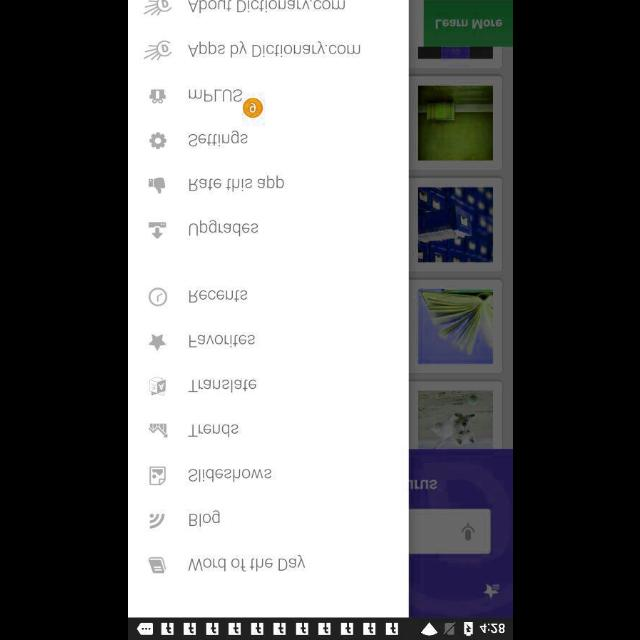icon: (148, 288, 168, 306), (148, 220, 166, 240), (148, 466, 166, 484), (149, 132, 167, 150), (148, 556, 166, 574), (148, 334, 166, 351), (148, 88, 166, 104), (148, 423, 168, 437)
image: (142, 40, 172, 60), (142, 0, 172, 16), (242, 99, 264, 118), (148, 376, 166, 396), (148, 176, 166, 194), (149, 512, 165, 528)
panel: (128, 0, 408, 618)
text: (188, 40, 360, 58), (188, 0, 344, 14), (187, 554, 305, 572), (188, 175, 284, 192), (188, 219, 258, 237), (188, 468, 272, 482), (188, 130, 248, 146), (188, 334, 256, 348), (188, 379, 256, 393), (188, 289, 248, 303), (188, 88, 242, 102), (188, 423, 238, 437), (188, 509, 220, 527)
uppertaskbar: (128, 617, 512, 639)
